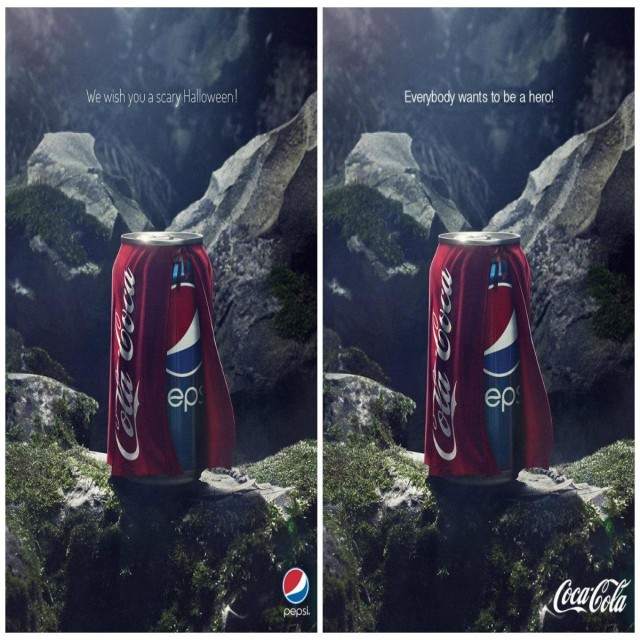pepsi: (154, 278, 212, 381), (477, 280, 526, 380), (281, 569, 314, 604)
